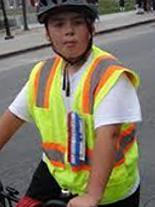Vest: (29, 50, 142, 198)
